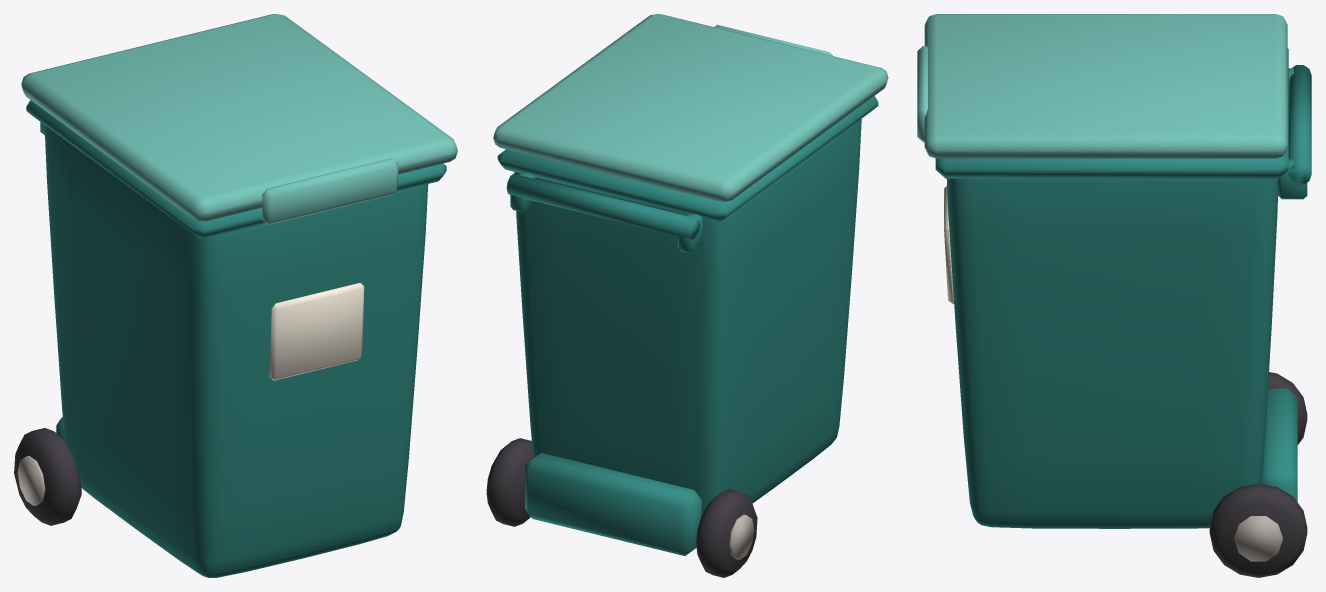
File: wheelie-bin.glb
3 views of the same model, side by side, from view 1: azimuth 30°, elevation 25°; view 2: azimuth 150°, elevation 25°; view 3: azimuth 270°, elevation 25° (orthographic). The views are drawn at different scales.
Parts seen in each view (by area): view 1: body, bin_lid; view 2: body, bin_lid; view 3: body, bin_lid.
Boxes of the visible parts, x1,y1,x2,y2 form: body: [14, 100, 446, 577]; bin_lid: [21, 14, 457, 224]; body: [486, 96, 878, 577]; bin_lid: [493, 14, 888, 201]; body: [935, 48, 1311, 577]; bin_lid: [917, 14, 1287, 158].
Bounding box in the file's own units: 0.636 × 1 × 0.809.
